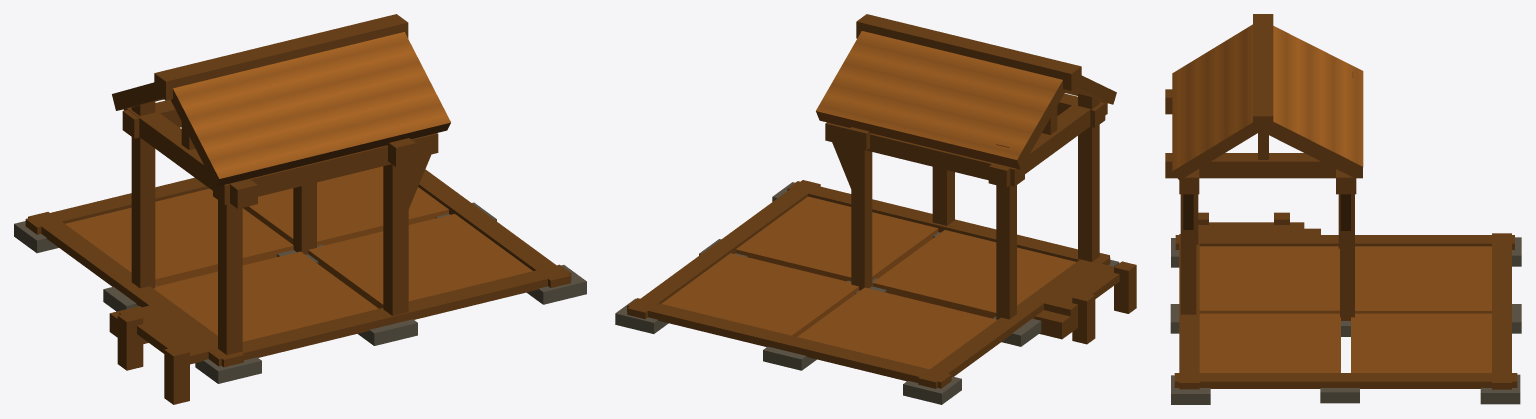
The model's file is stockpile.fbx.
3 views of the same model, side by side, from view 1: azimuth 30°, elevation 25°; view 2: azimuth 150°, elevation 25°; view 3: azimuth 270°, elevation 25° (orthographic). The views are drawn at different scales.
Parts seen in each view (by area): view 1: polySurface70; view 2: polySurface70; view 3: polySurface70.
Part boxes in pixels (left/top/right/bottom): polySurface70: left=14, top=14, right=586, bottom=404; polySurface70: left=615, top=14, right=1136, bottom=404; polySurface70: left=1165, top=14, right=1521, bottom=404.
Size of the model in its own units: 229 by 159 by 204.
Materials: 1 (1 with a texture image).
